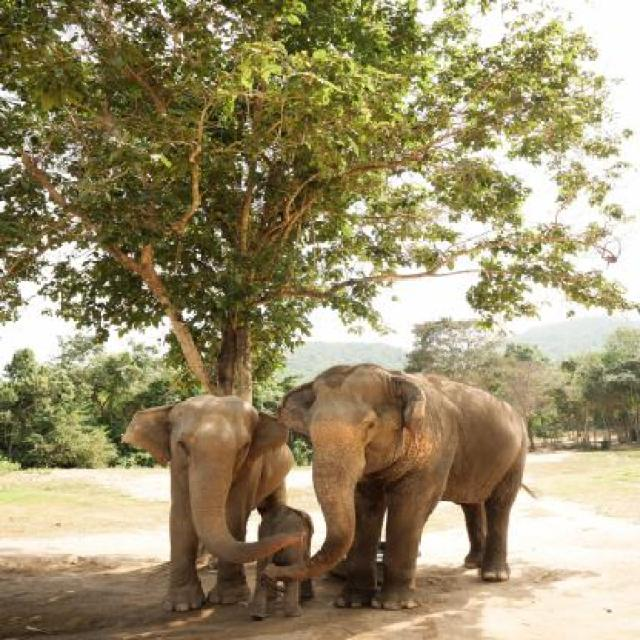Elephant: (268, 358, 552, 616), (119, 389, 319, 620), (244, 503, 322, 620)
